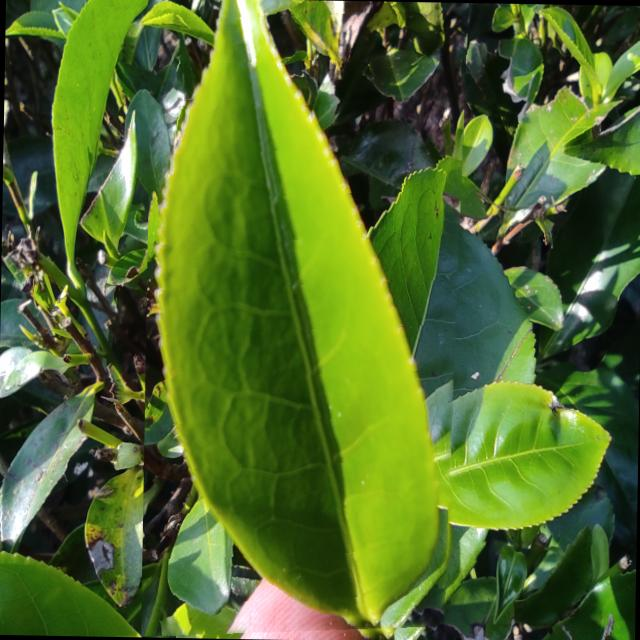Category B 2-4 days: (140, 0, 468, 640)
